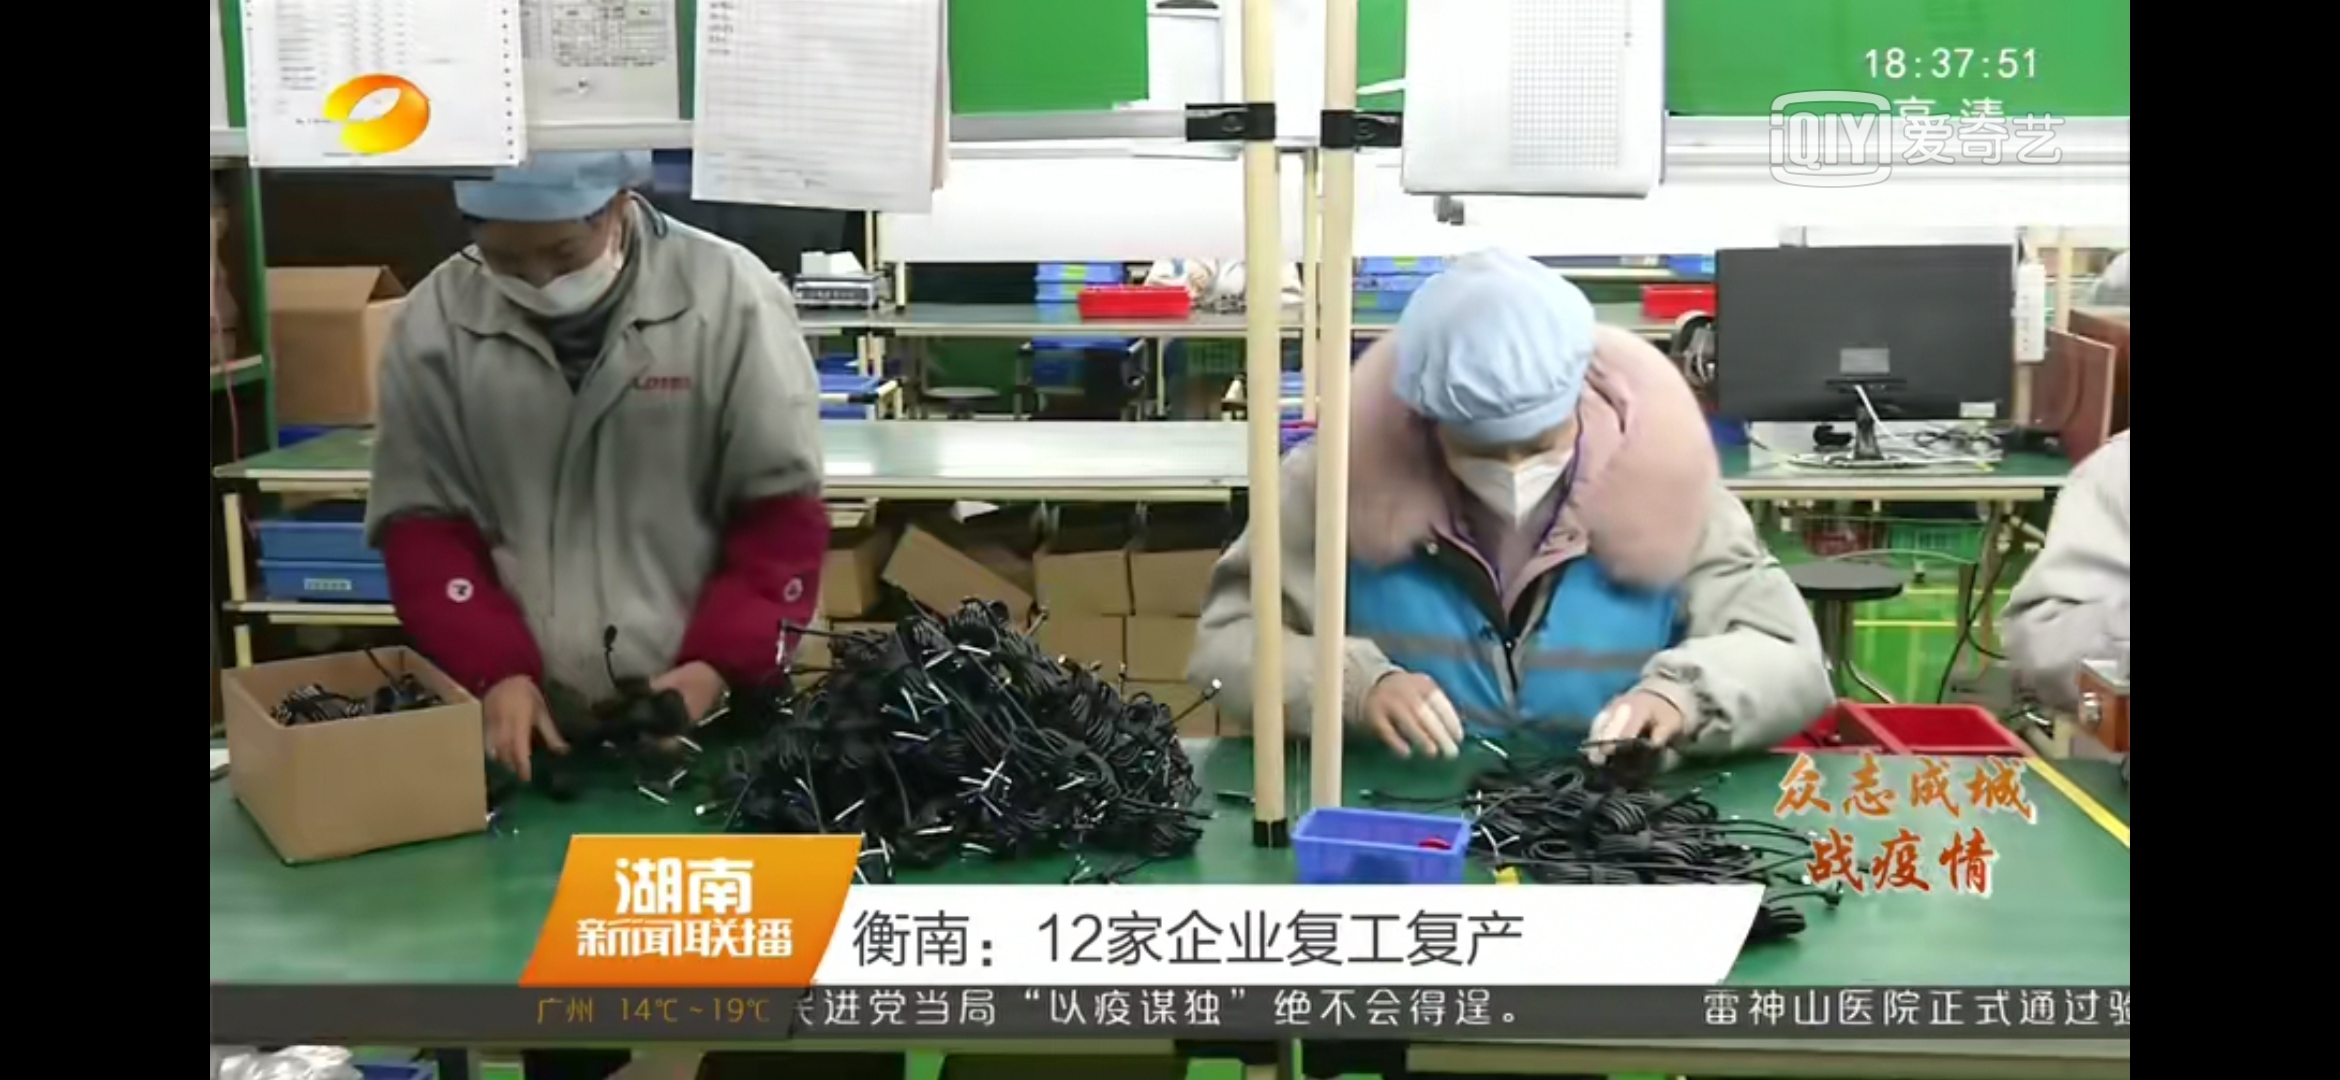correctlyWear: (481, 216, 625, 336), (1449, 427, 1576, 533)
